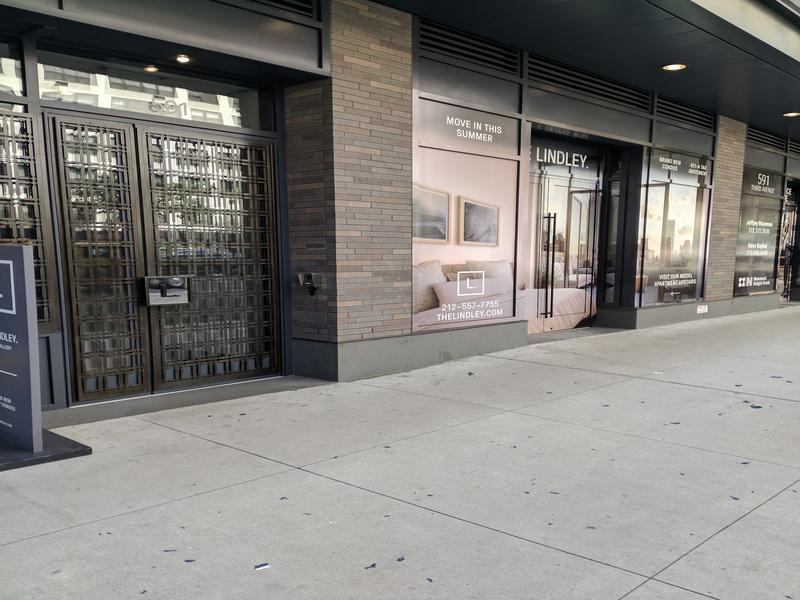double_door: (43, 96, 297, 412)
